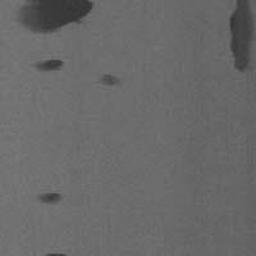Oil spot: (14, 0, 95, 36), (227, 0, 256, 77), (31, 58, 65, 73), (35, 191, 64, 205), (97, 73, 123, 88), (38, 252, 69, 256)
